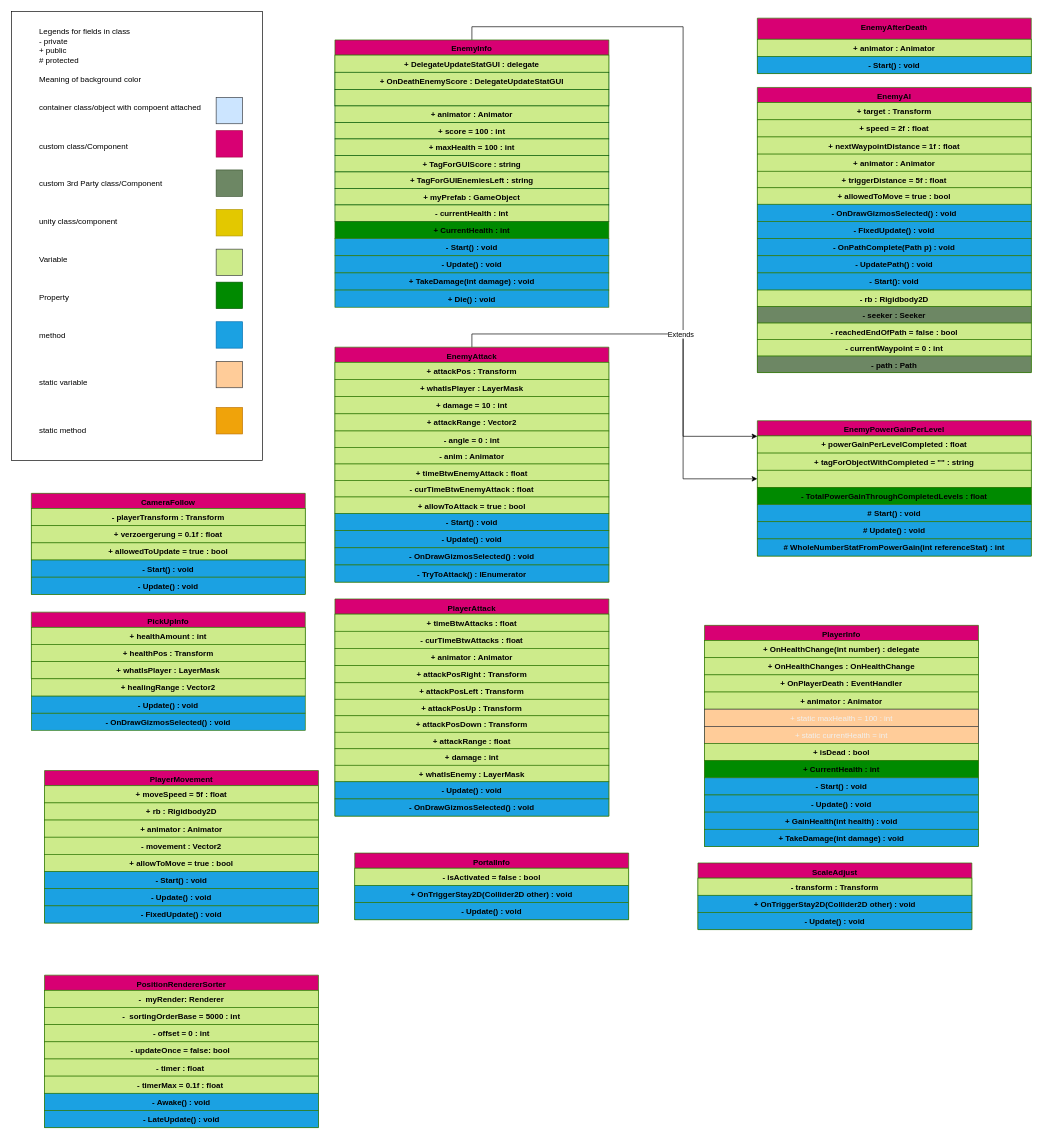
Image size: 1043x1141. Some labels were removed from this diagram. Each missing label, with the centre of its shape:
# completedLevels : int: the point at 894,478
+ OnEnemyCountChange : DelegateUpdateStatGUI: the point at 471,97
